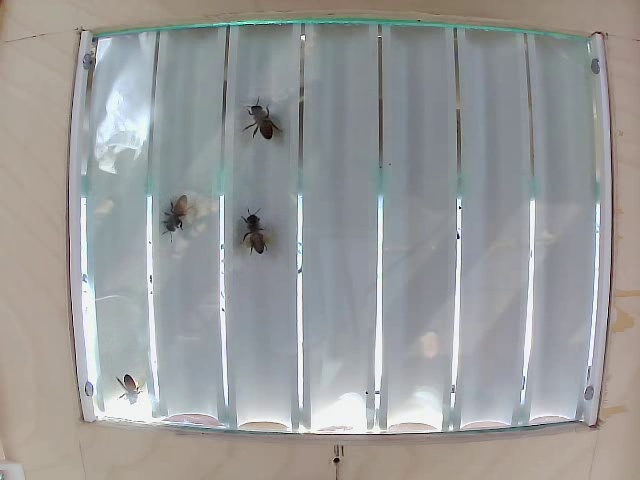bee: (229, 201, 271, 260), (242, 97, 281, 152), (164, 190, 197, 239), (116, 369, 154, 411)
